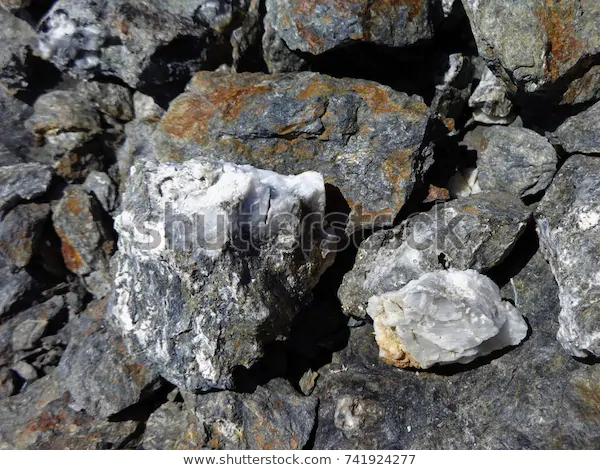volcanic_rock: (108, 157, 334, 387), (155, 69, 429, 220), (320, 190, 528, 330), (257, 1, 455, 87), (346, 278, 534, 367), (51, 287, 167, 420), (454, 1, 600, 97), (132, 380, 319, 446), (458, 119, 570, 205)
